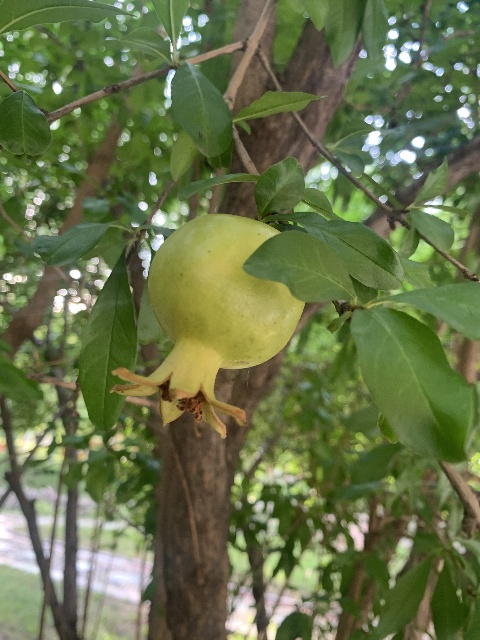mid-growth: (109, 213, 305, 442)
